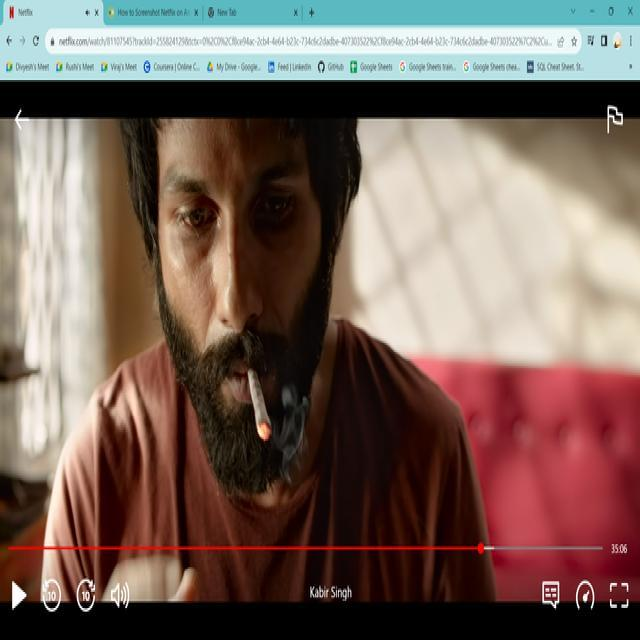smoking: (244, 359, 278, 453)
